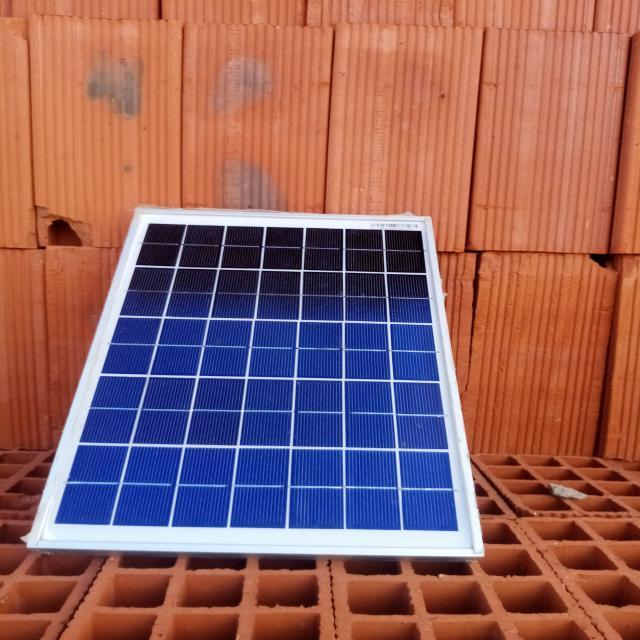no faulty: (33, 209, 484, 554)
